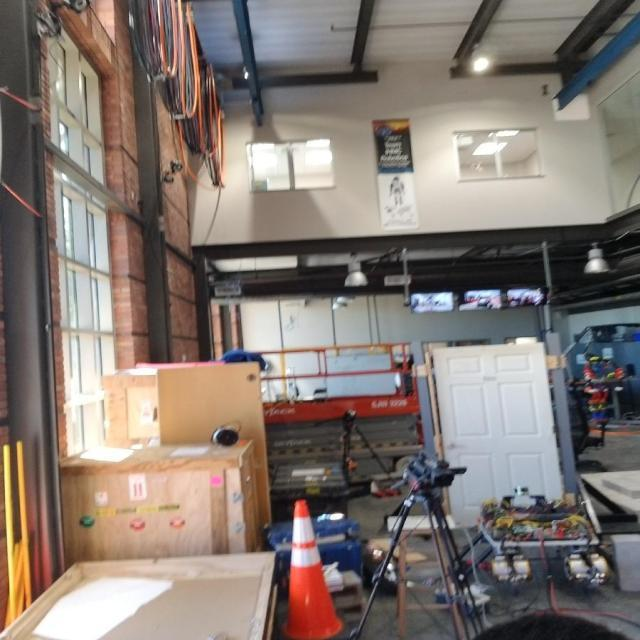door: (426, 341, 566, 534), (444, 440, 466, 450)
